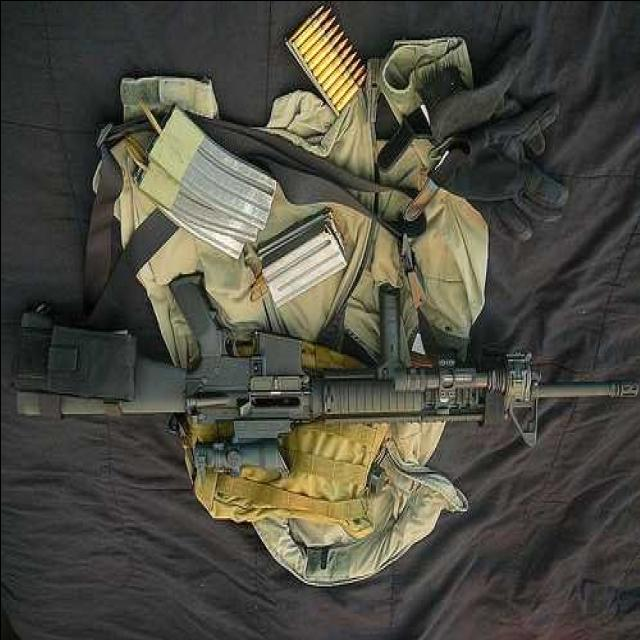heavyweapon: (14, 257, 640, 467)
